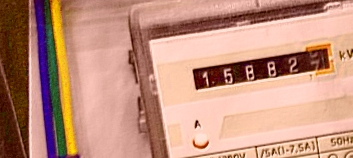1: (199, 69, 211, 88)
2: (286, 55, 299, 74)
5: (221, 67, 234, 85)
7: (309, 59, 321, 71)
8: (264, 59, 278, 78), (242, 63, 256, 81)
screen: (182, 39, 342, 100)
